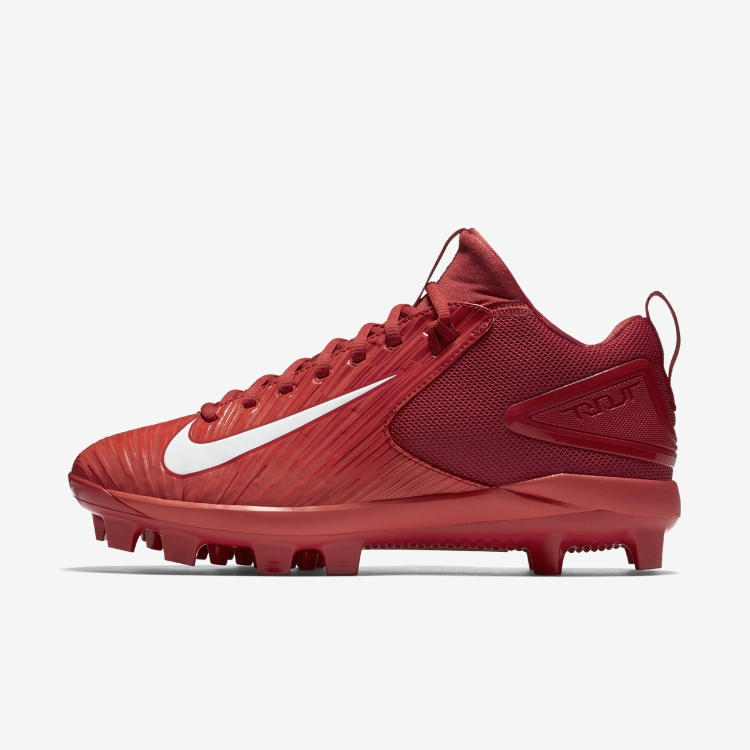nike: (155, 371, 400, 478)
